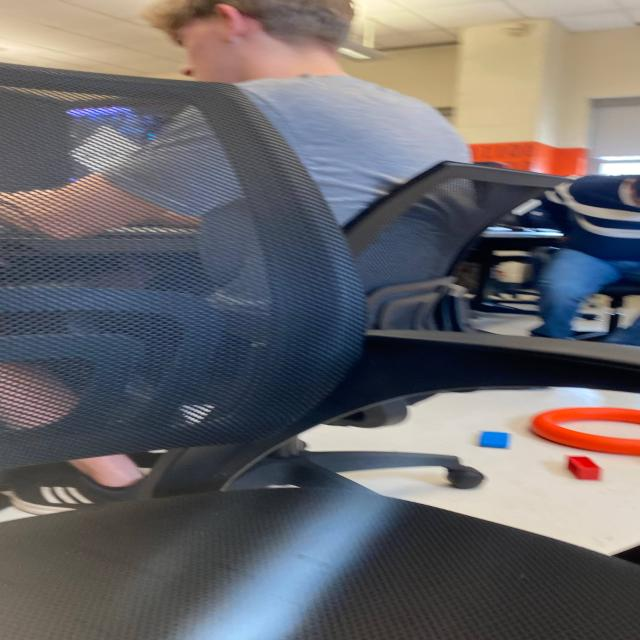red-specimen: (567, 456, 601, 480)
